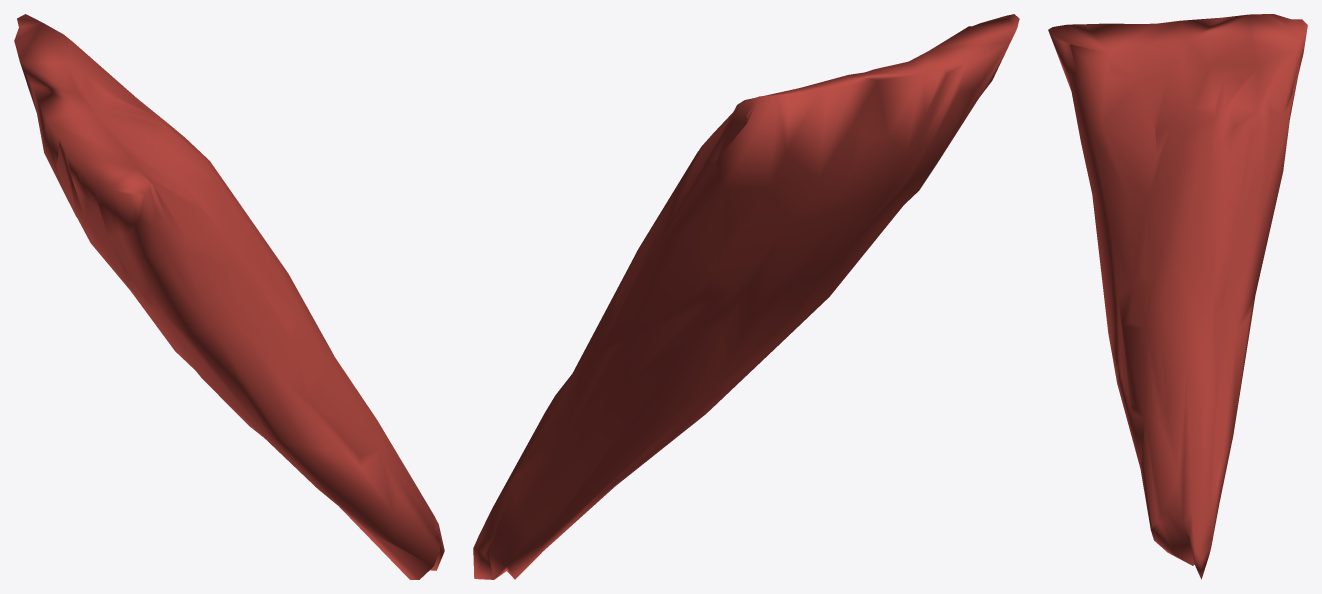
File: musculos-rectus-posterior-major-capitis-muscle-r.glb
3 views of the same model, side by side, from view 1: azimuth 30°, elevation 25°; view 2: azimuth 150°, elevation 25°; view 3: azimuth 270°, elevation 25° (orthographic). The views are drawn at different scales.
Visible parts, largest first — view 1: Rectus posterior major capitis muscle.r; view 2: Rectus posterior major capitis muscle.r; view 3: Rectus posterior major capitis muscle.r.
Part boxes in pixels (box(x1,y1,x2,y2)): Rectus posterior major capitis muscle.r: box(14, 14, 444, 579); Rectus posterior major capitis muscle.r: box(473, 14, 1019, 579); Rectus posterior major capitis muscle.r: box(1048, 14, 1307, 579).
Bounding box in the file's own units: 0.0353 × 0.0466 × 0.0253.
